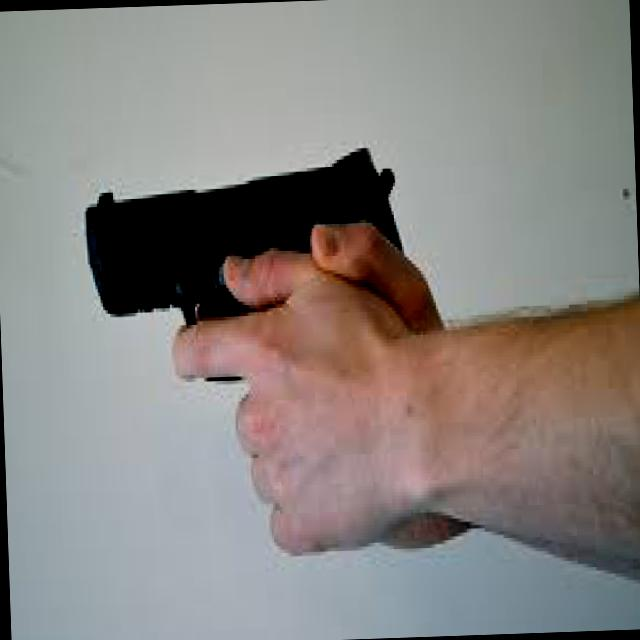handgun: (66, 100, 422, 392)
